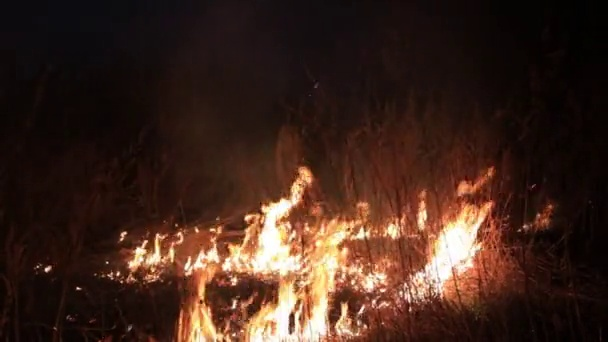fire: (222, 163, 367, 342), (404, 201, 495, 301), (178, 270, 214, 342), (130, 231, 180, 267), (359, 270, 389, 292), (188, 247, 219, 267), (382, 216, 406, 237), (415, 190, 427, 231), (459, 180, 476, 194)
